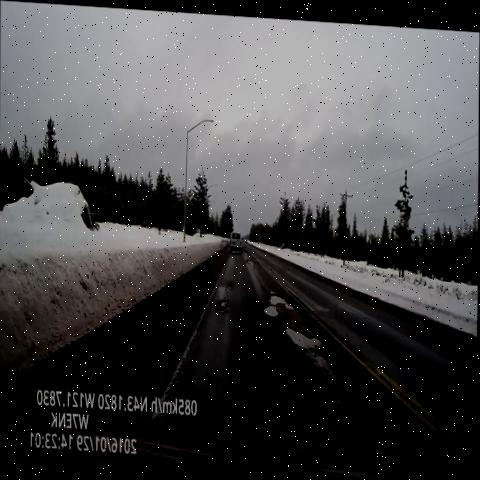pothole: (278, 315, 332, 362), (255, 275, 299, 323), (211, 285, 233, 323), (241, 249, 261, 270), (236, 240, 254, 259)
